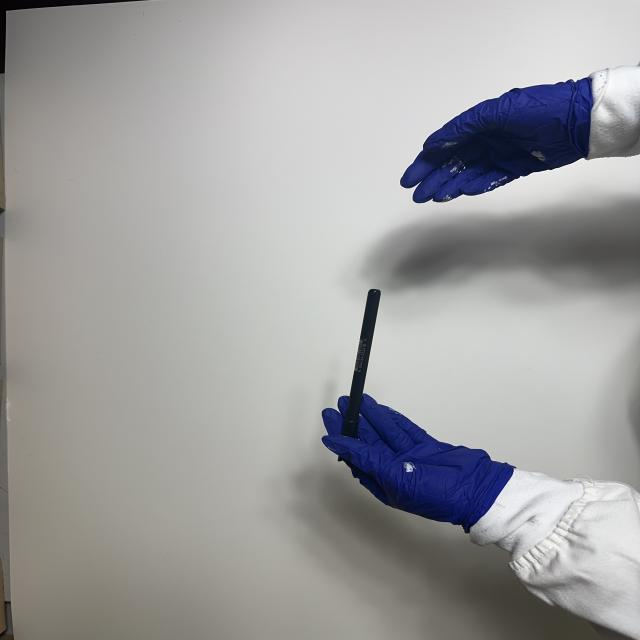gloves_contaminated: (322, 394, 514, 532), (401, 78, 592, 202)
